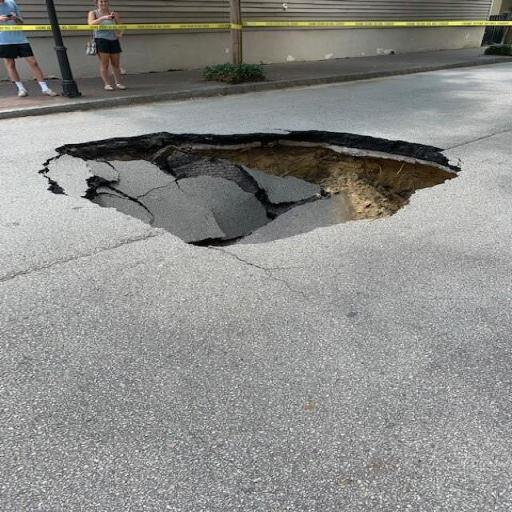Concentric_Crack: (41, 131, 460, 246)
